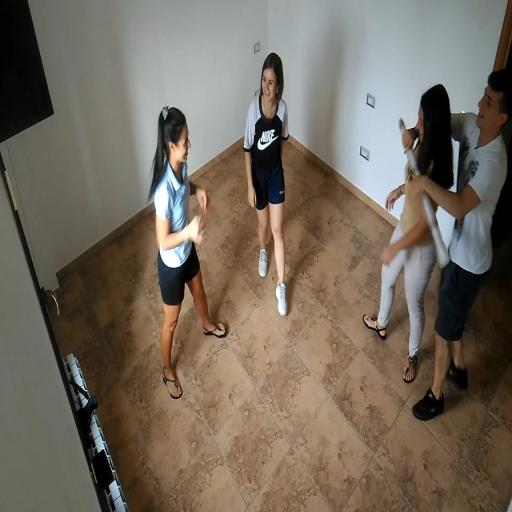violencia: (359, 68, 512, 430)
